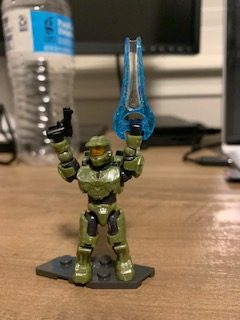chief: (43, 117, 146, 285)
pistol: (45, 106, 77, 143)
spartan: (41, 115, 144, 283), (45, 122, 144, 202)
